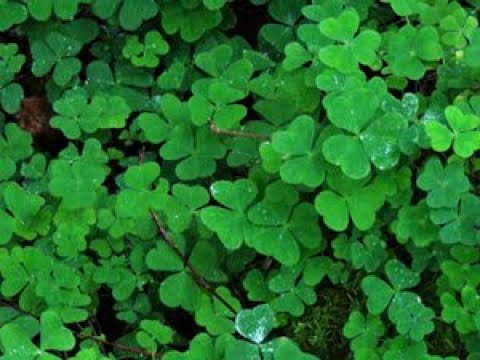oxalis: (17, 27, 477, 360)
